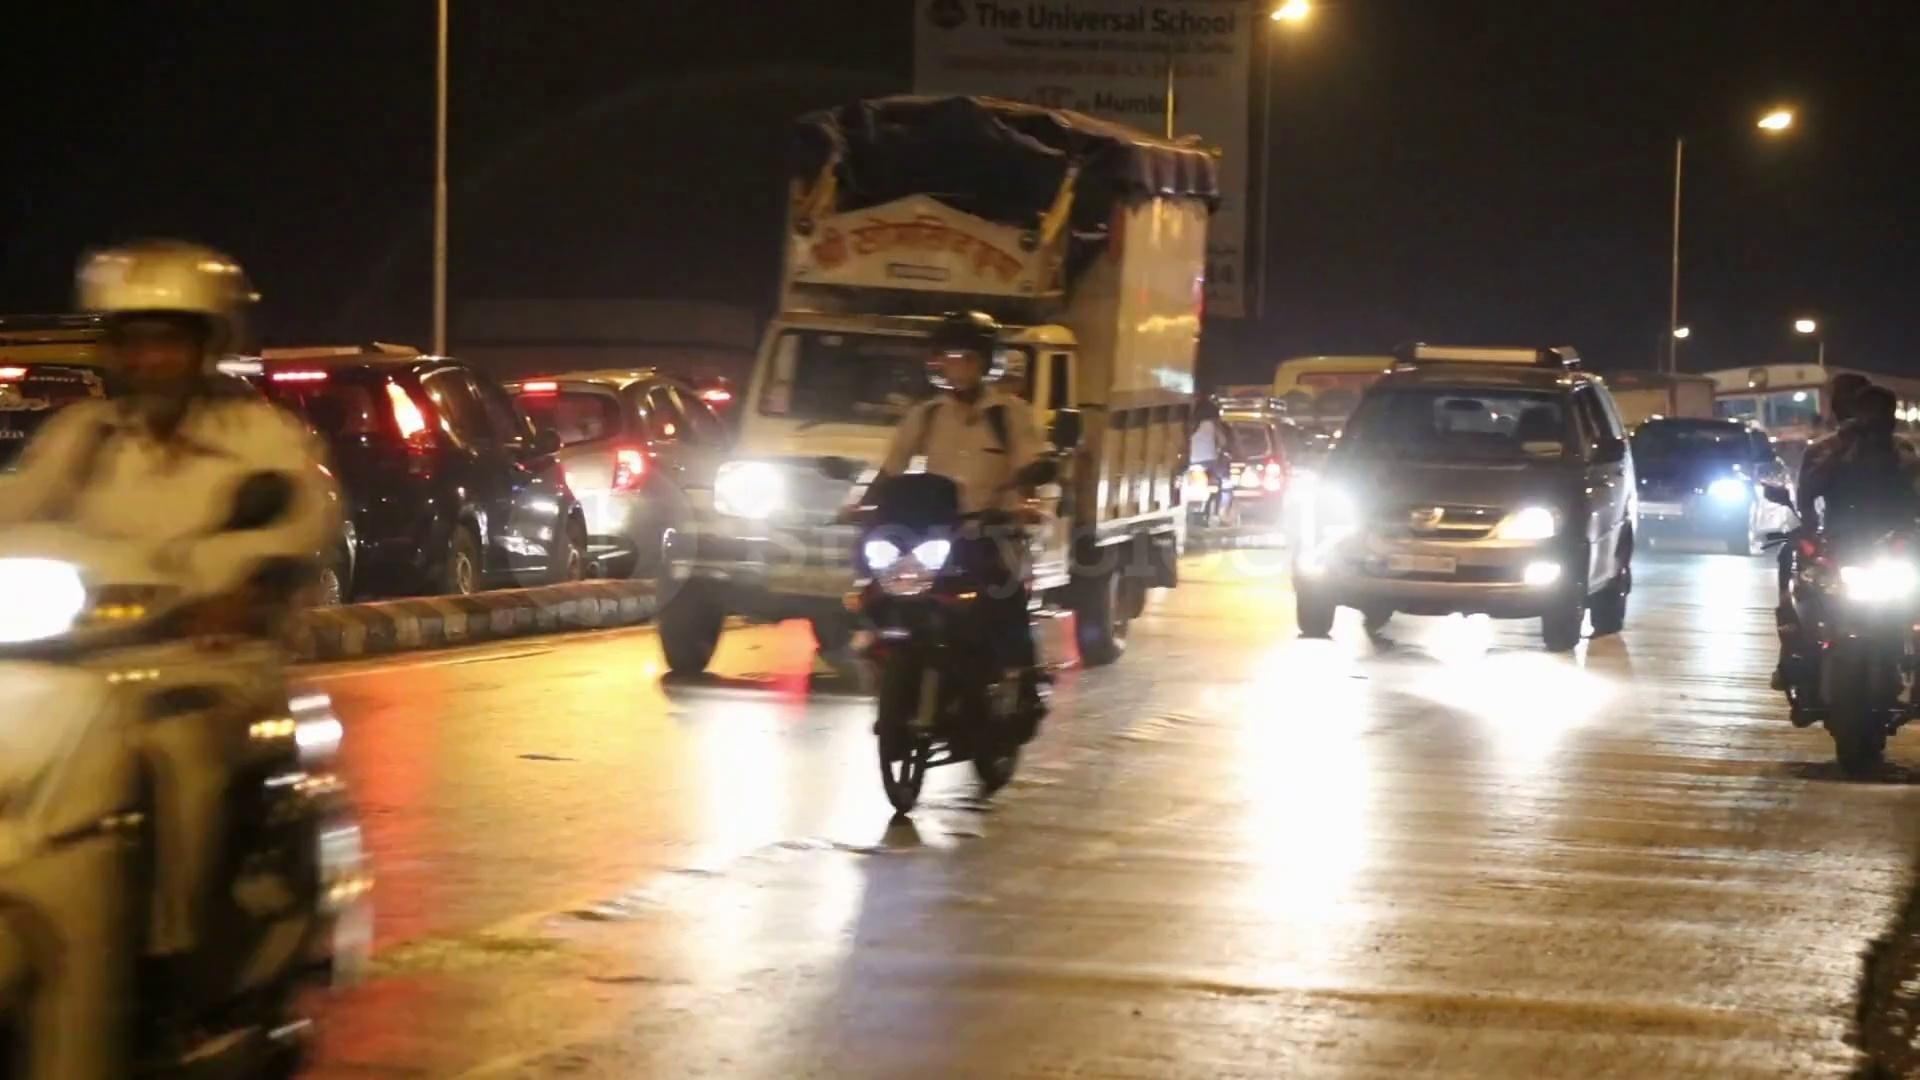rider: (0, 235, 349, 1073), (848, 306, 1061, 777), (1781, 360, 1914, 766), (1187, 399, 1238, 527)
with_helmate: (89, 251, 266, 409), (917, 314, 1007, 393)
